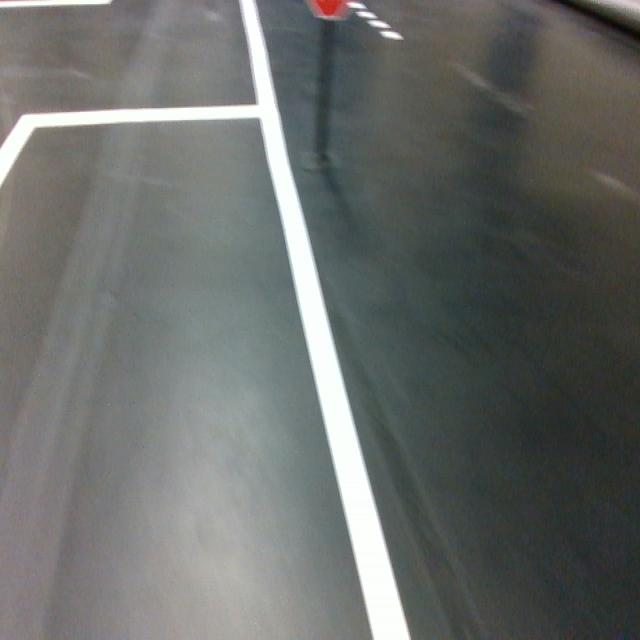stop-sign: (304, 0, 356, 21)
